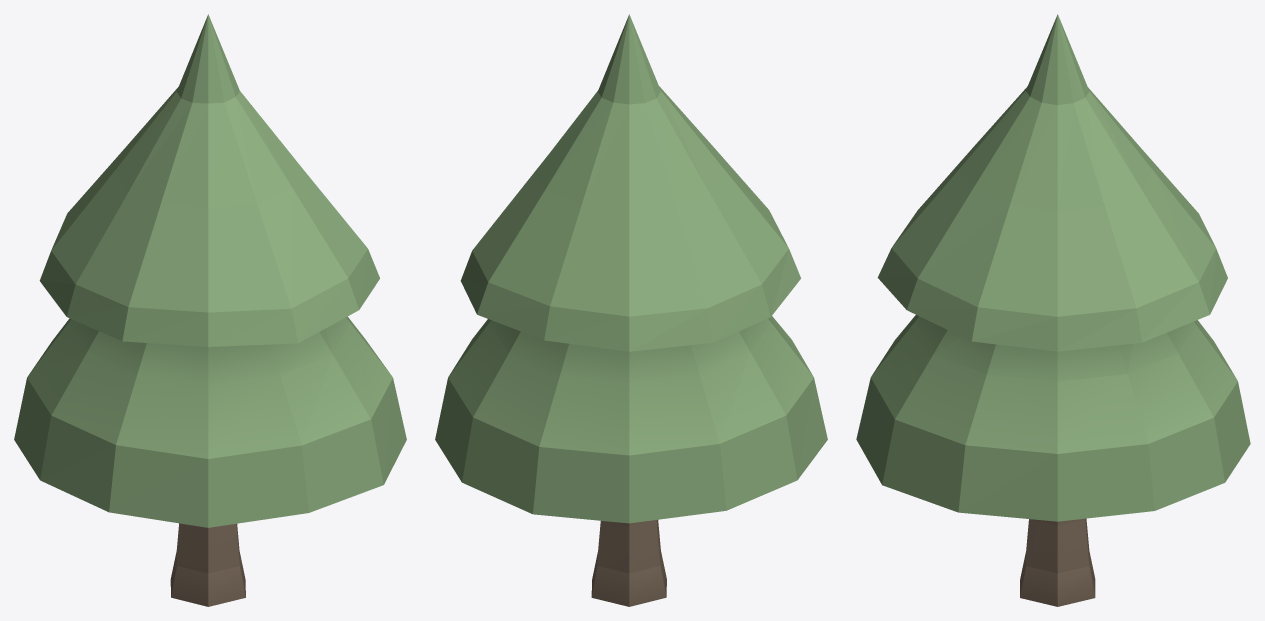
Rendered from young.glb.
3 views of the same model, side by side, from view 1: azimuth 30°, elevation 25°; view 2: azimuth 150°, elevation 25°; view 3: azimuth 270°, elevation 25° (orthographic).
Visible parts, largest first — view 1: young; view 2: young; view 3: young.
Boxes of the visible parts, x1,y1,x2,y2 form: young: (14,14,406,606); young: (435,14,827,606); young: (856,14,1250,606).
Bounding box in the file's own units: 1.84 × 3 × 1.87.
